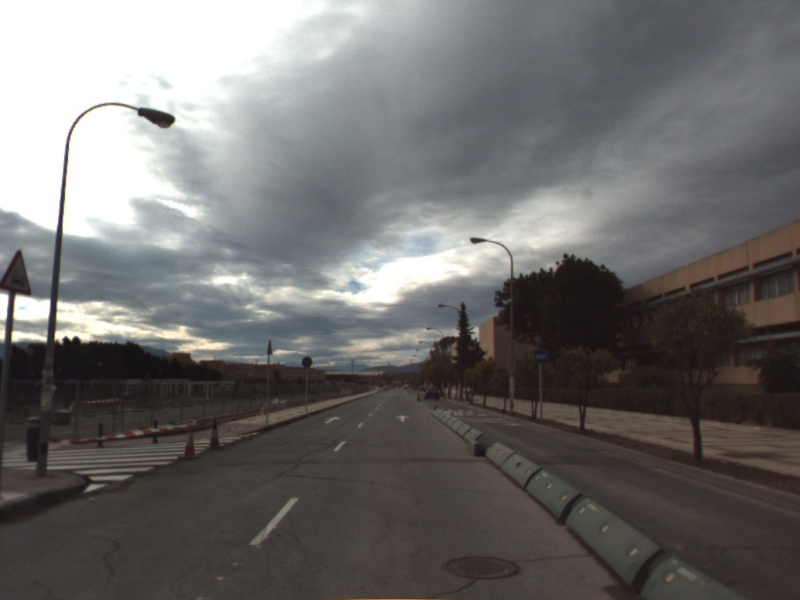STRAIGHT: (322, 414, 343, 426), (393, 412, 412, 424)
